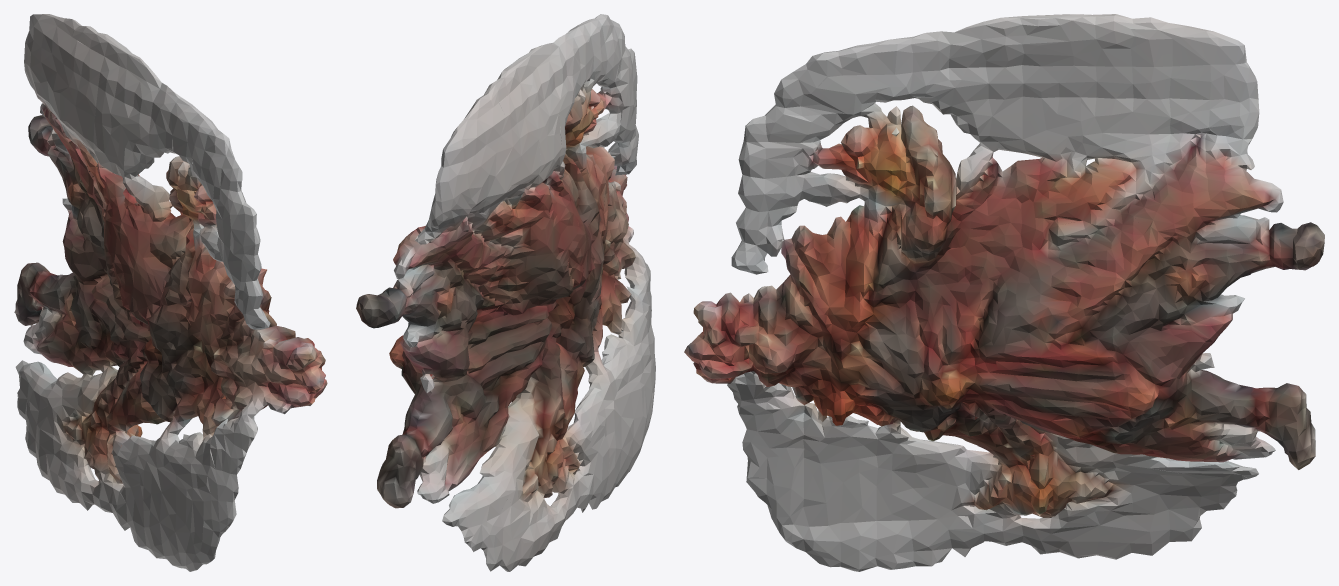
The model's file is pyromancer.glb.
3 renders of one model, left to right at view 1: azimuth 30°, elevation 25°; view 2: azimuth 150°, elevation 25°; view 3: azimuth 270°, elevation 25°, orthographic. The views are drawn at different scales.
Parts seen in each view (by area): view 1: geometry_0; view 2: geometry_0; view 3: geometry_0.
Part boxes in pixels (x1,y1,x2,y2): geometry_0: (14,14,327,571); geometry_0: (356,14,655,571); geometry_0: (684,14,1324,571).
Bounding box in the file's own units: 0.3046 × 1.05 × 1.07.
